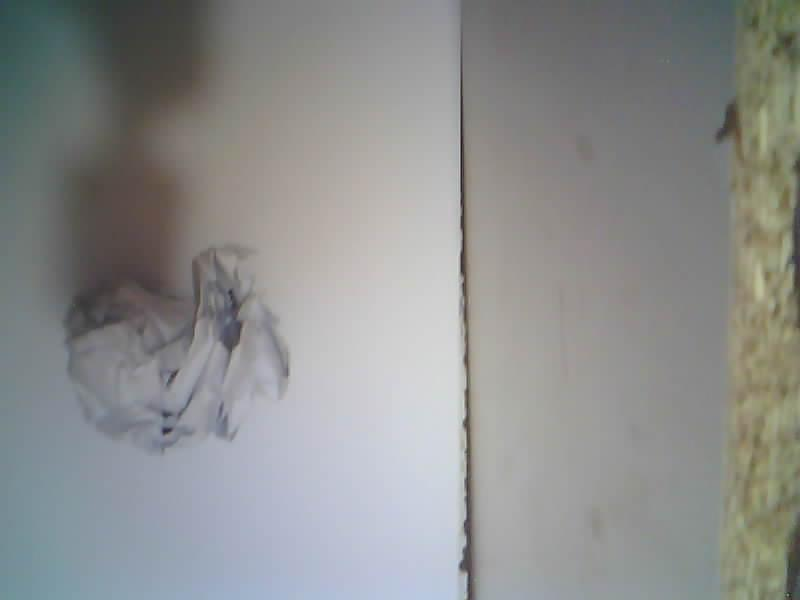biodegradable: (65, 247, 289, 454)
